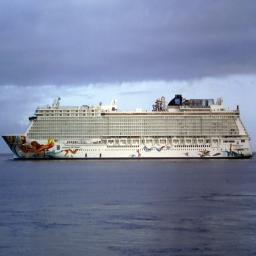cruises: (1, 94, 255, 163)
